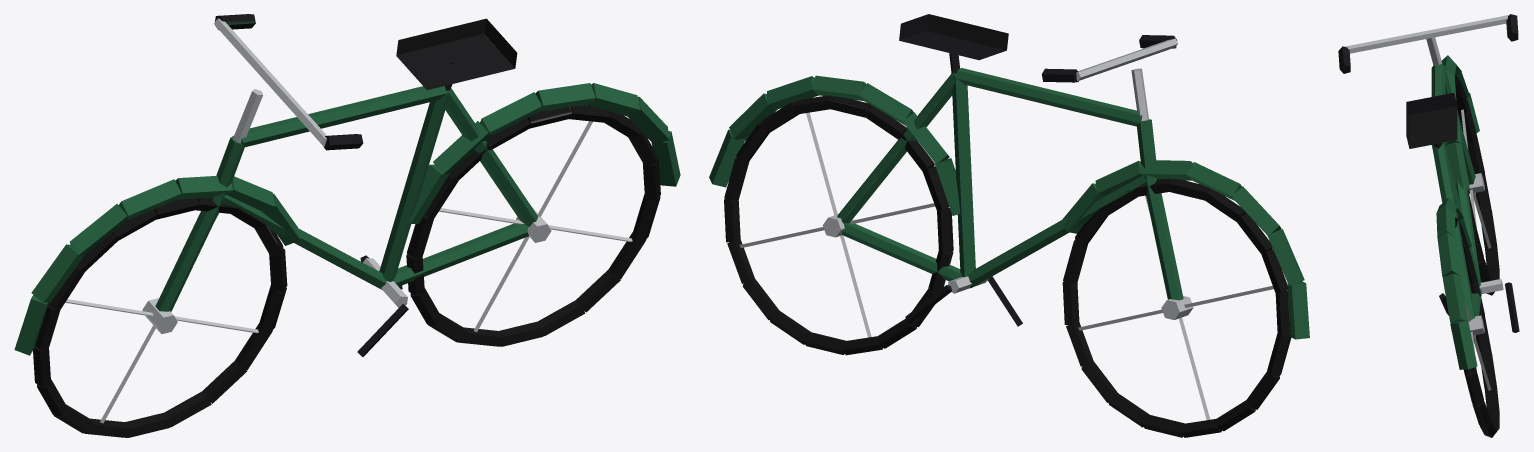
File: kolo_fdb39a81.glb
3 renders of one model, left to right at view 1: azimuth 30°, elevation 25°; view 2: azimuth 150°, elevation 25°; view 3: azimuth 270°, elevation 25°, orthographic. The views are drawn at different scales.
Parts seen in each view (by area): view 1: dum; view 2: dum; view 3: dum.
Boxes of the visible parts, x1,y1,x2,y2 form: dum: (14,14,680,437); dum: (709,14,1309,437); dum: (1338,14,1519,437).
Size of the model in its own units: 1.95 by 1.09 by 0.5905.
Materials: 1 (1 with a texture image).
